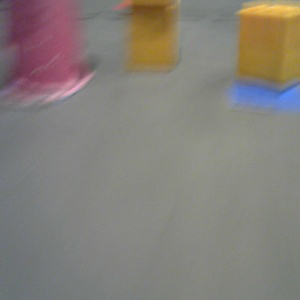middle: (1, 1, 94, 99)
